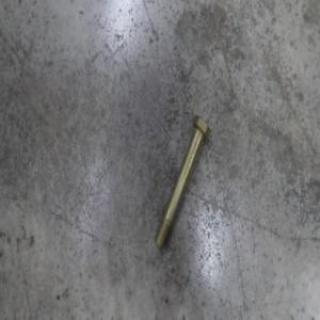Bolttrack_idkeyframe: (153, 112, 210, 250)
